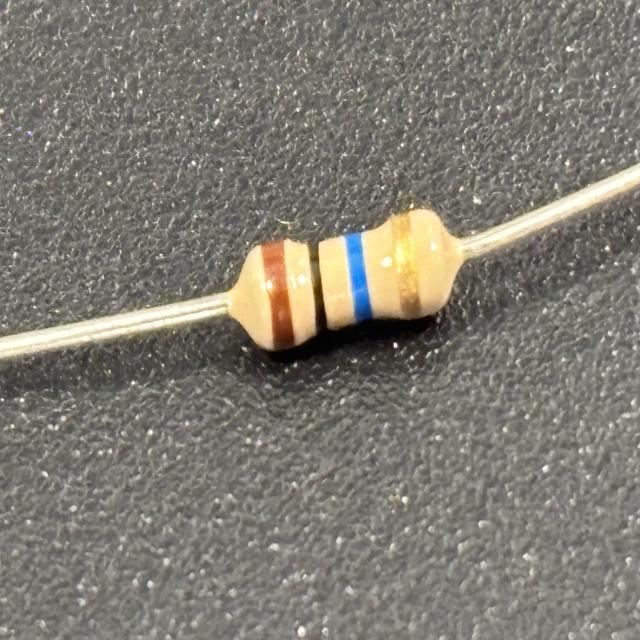resistor: (238, 205, 457, 355)
